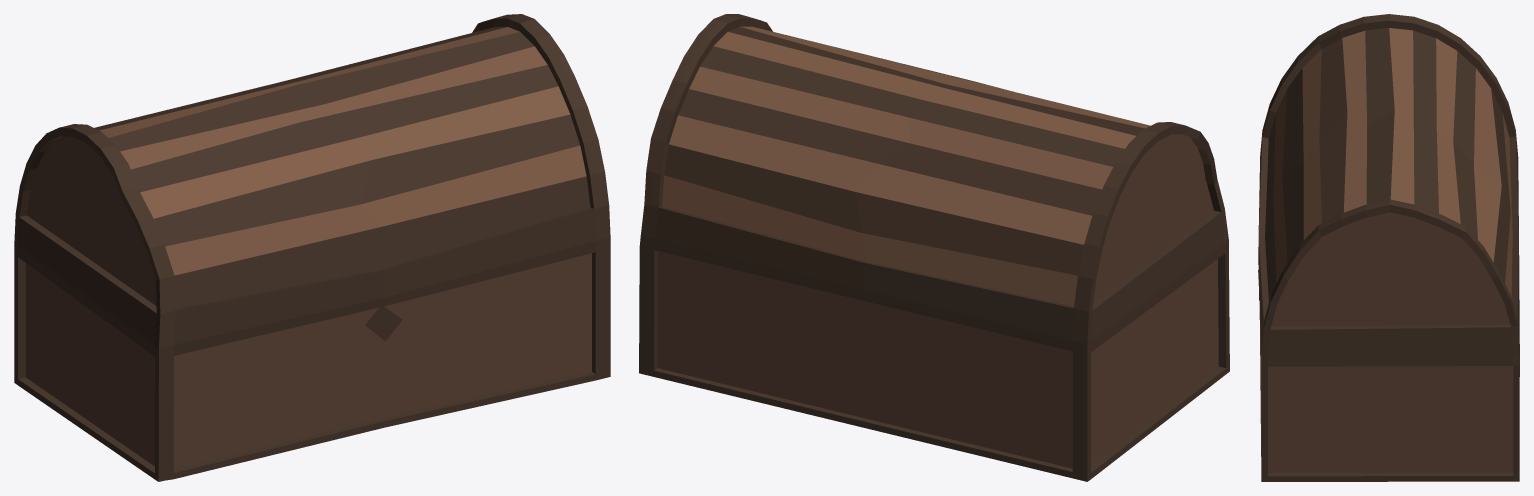
The model's file is Chest_01.gltf.
3 renders of one model, left to right at view 1: azimuth 30°, elevation 25°; view 2: azimuth 150°, elevation 25°; view 3: azimuth 270°, elevation 25°, orthographic. The views are drawn at different scales.
Parts seen in each view (by area): view 1: oval chest; view 2: oval chest; view 3: oval chest.
Part boxes in pixels (x1,y1,x2,y2): oval chest: [14, 14, 610, 481]; oval chest: [639, 14, 1229, 481]; oval chest: [1258, 14, 1519, 481].
Bounding box in the file's own units: 0.6232 × 0.4 × 0.3448.
1 material, 1 textured.
